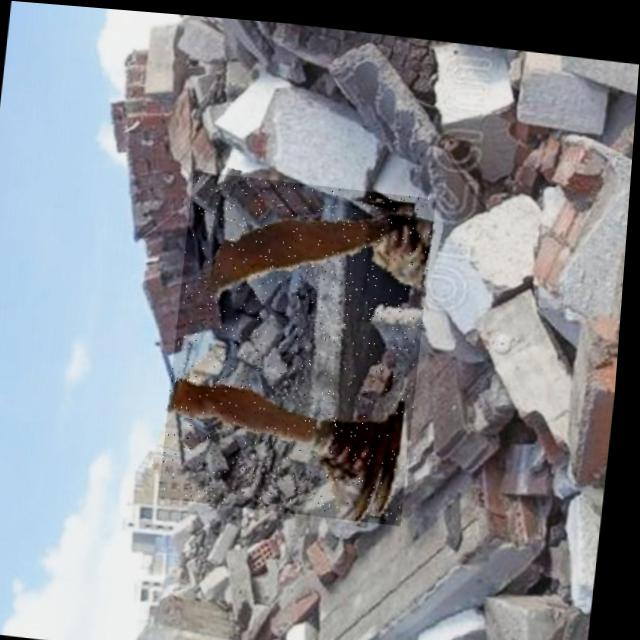Person in Rubble: (165, 165, 439, 518)
